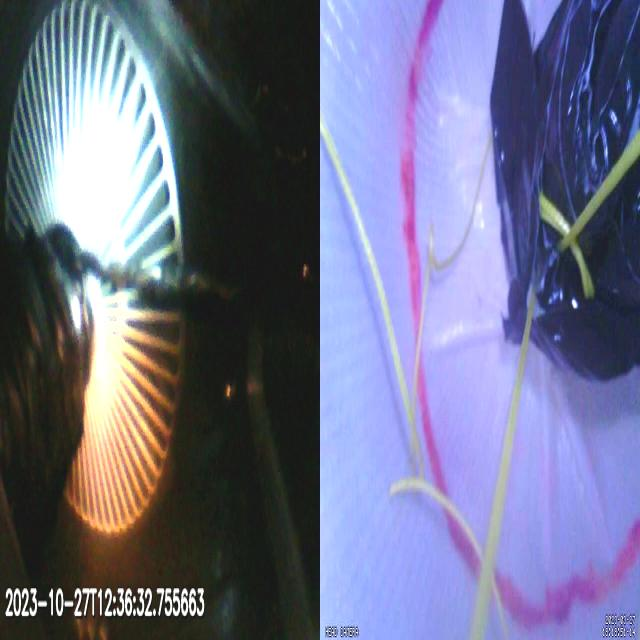red-circle: (401, 4, 640, 628)
